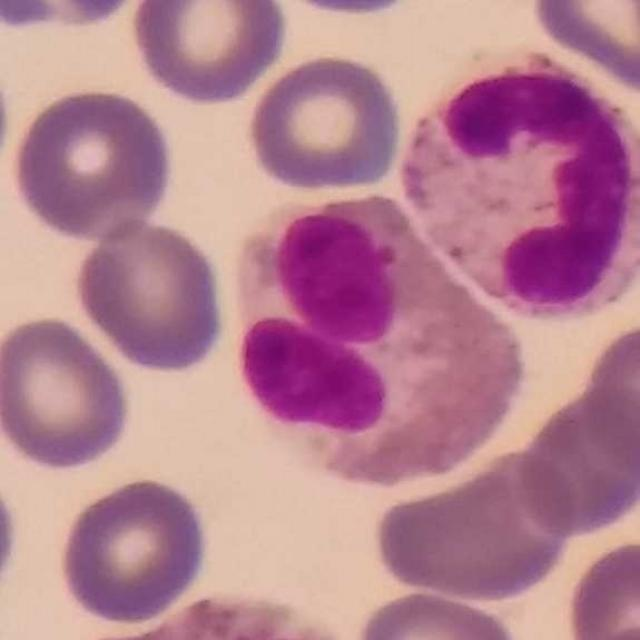Eosinophil: (242, 194, 520, 486), (117, 589, 360, 640)
Neutrophil: (393, 49, 640, 323)
RBC: (372, 444, 580, 606), (7, 82, 177, 244), (70, 215, 232, 376), (496, 157, 640, 326), (54, 473, 212, 626), (244, 50, 407, 196), (0, 312, 136, 473), (511, 380, 640, 540), (127, 0, 290, 107), (526, 0, 640, 97), (577, 315, 640, 483), (351, 585, 528, 640), (561, 534, 640, 640), (0, 0, 149, 35), (256, 0, 439, 21)
